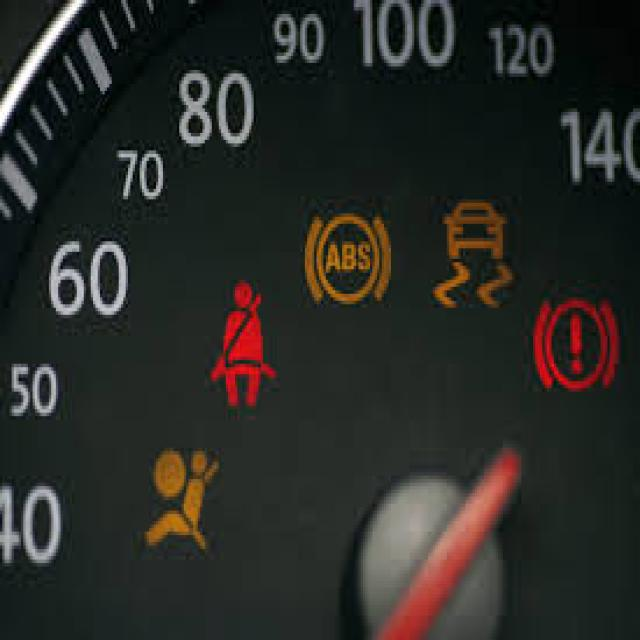kontrolka: (186, 250, 288, 422), (298, 198, 405, 314), (131, 433, 224, 563), (435, 196, 517, 319), (530, 294, 627, 396)
